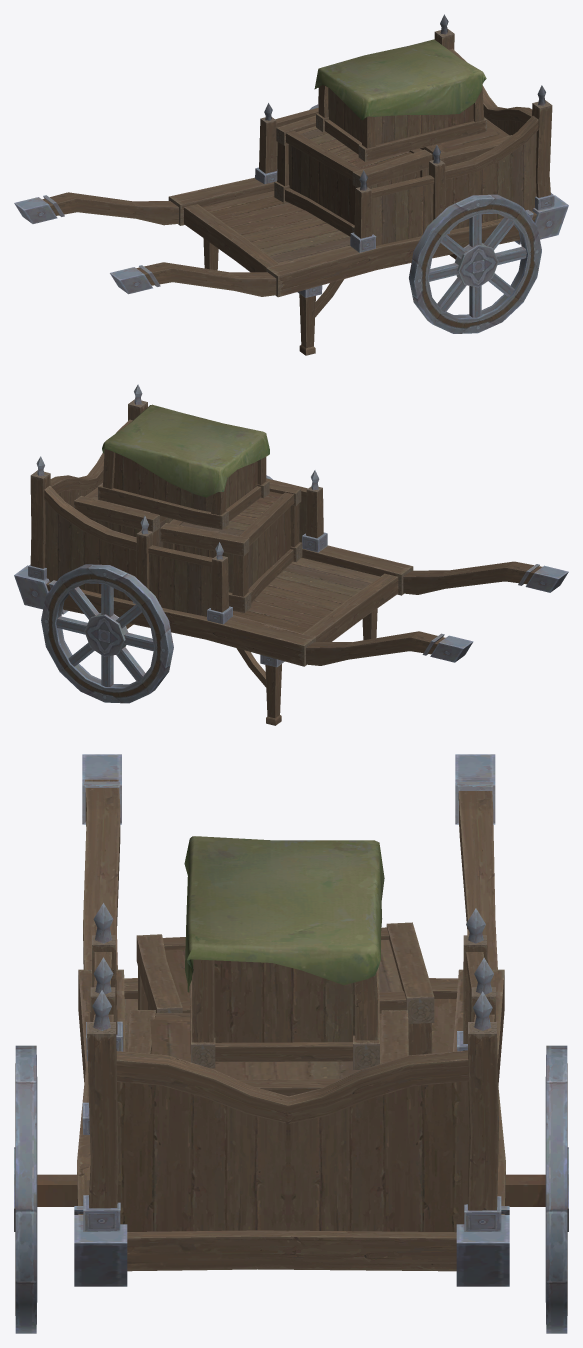
Rendered from Homeworld_Exterior_Xm_Thing_Prop_Cart_01_Lod0.fbx.
3 views of the same model, one above another, from view 1: azimuth 30°, elevation 25°; view 2: azimuth 150°, elevation 25°; view 3: azimuth 270°, elevation 25° (orthographic). The views are drawn at different scales.
Parts seen in each view (by area): view 1: Homeworld_Exterior_Xm_Thing_Prop_Cart_01_Lod0; view 2: Homeworld_Exterior_Xm_Thing_Prop_Cart_01_Lod0; view 3: Homeworld_Exterior_Xm_Thing_Prop_Cart_01_Lod0.
Boxes of the visible parts, x1,y1,x2,y2 form: Homeworld_Exterior_Xm_Thing_Prop_Cart_01_Lod0: (14,14,568,355); Homeworld_Exterior_Xm_Thing_Prop_Cart_01_Lod0: (14,384,568,725); Homeworld_Exterior_Xm_Thing_Prop_Cart_01_Lod0: (14,754,568,1333).
Bounding box in the file's own units: 4.04 × 1.88 × 2.23.
